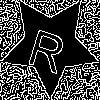R: (25, 19, 71, 74)
